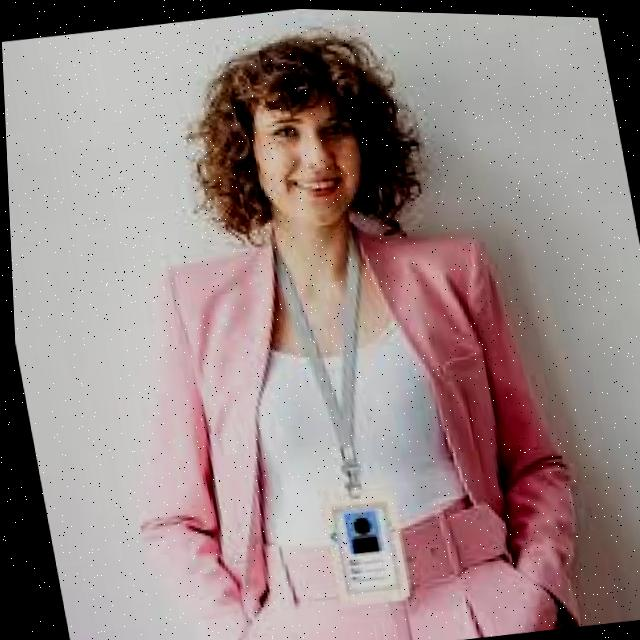id_card: (254, 228, 426, 618)
